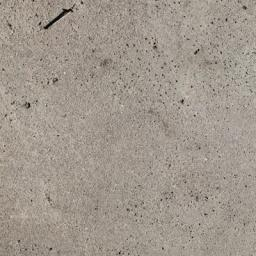FOD: (45, 7, 77, 33)
